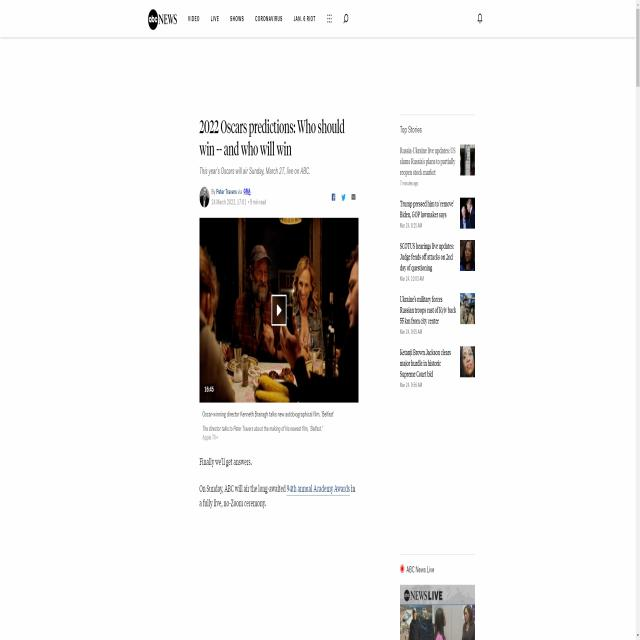search: (339, 8, 351, 30)
tab-bar: (146, 3, 352, 35)
